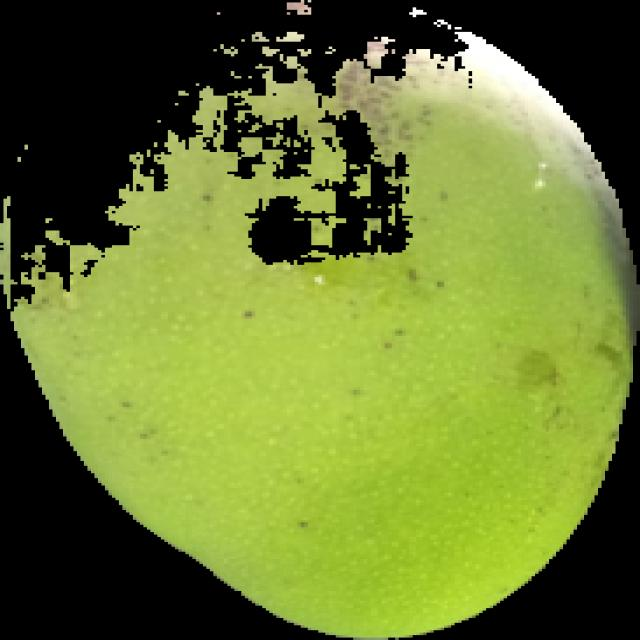Mango-sano: (11, 32, 639, 639)
